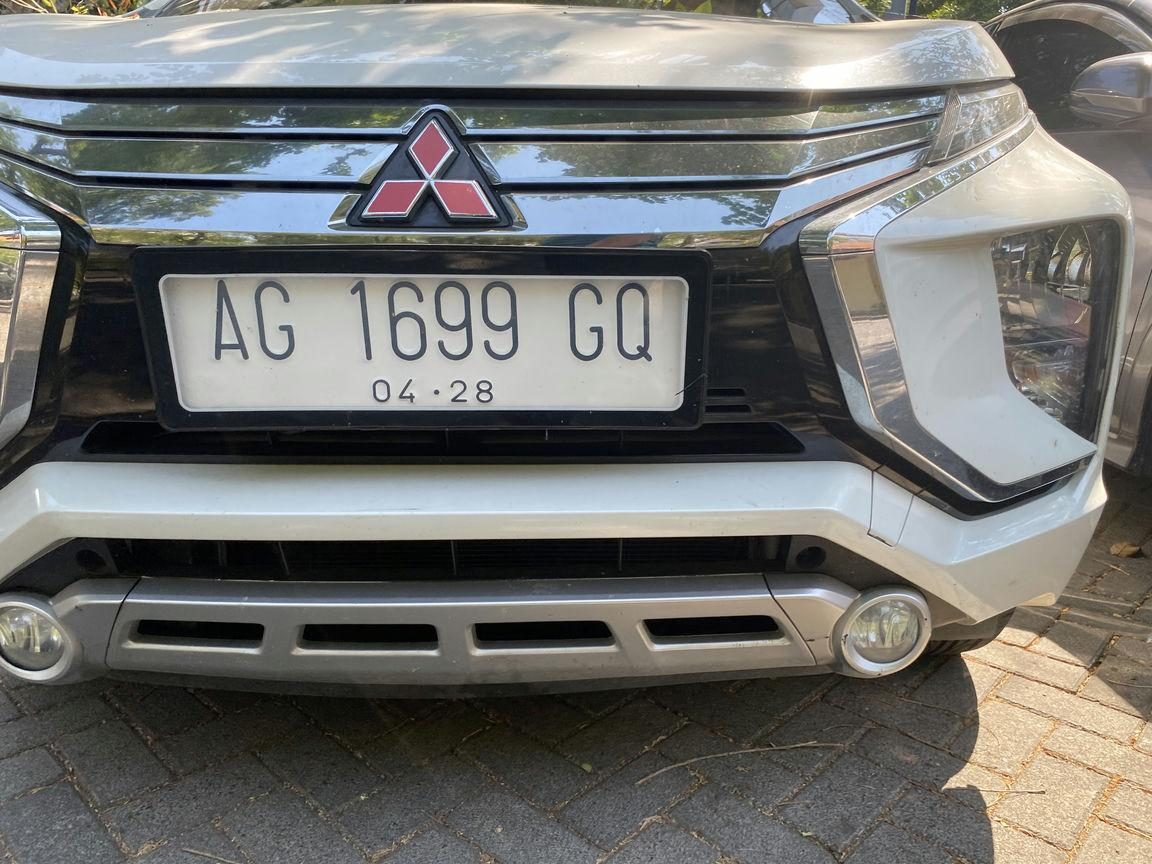plat: (158, 272, 688, 414)
